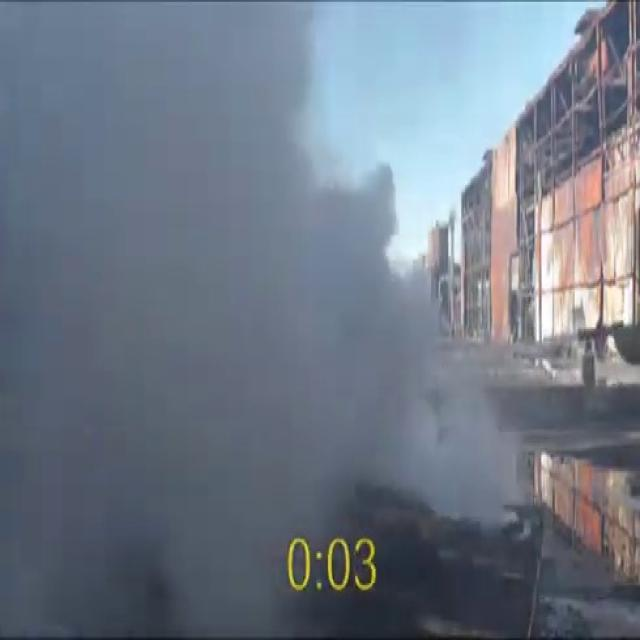Smoke: (1, 2, 518, 608)
